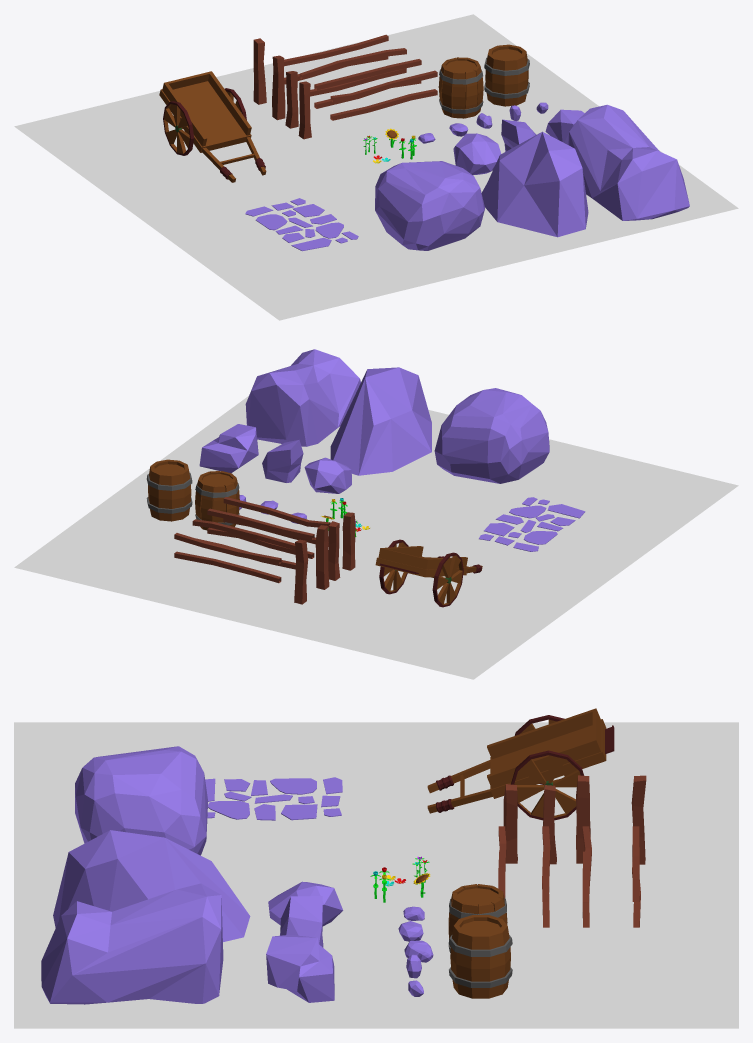
The model's file is assets presentatie.fbx.
The picture shows the model from 3 angles, top to bottom: view 1: azimuth 30°, elevation 25°; view 2: azimuth 150°, elevation 25°; view 3: azimuth 270°, elevation 25°; orthographic projection. The views are drawn at different scales.
Visible parts, largest first — view 1: Plane.017, rock big 1, rock big 2, rock big 3, wagon, tile, barrel, barrel higer poly, fence_length_3, rock medium 3, fence_length_2, fence_length_4 (+7 smaller); view 2: Plane.017, rock big 3, rock big 2, rock big 1, wagon, tile, barrel, rock medium 1, barrel higer poly, fence_length_1, rock medium 2, rock medium 3 (+7 smaller); view 3: Plane.017, rock big 1, rock big 3, rock big 2, wagon, barrel, tile, rock medium 1, barrel higer poly, rock medium 2, rock medium 3, fence_pole_3 (+7 smaller).
Boxes of the visible parts, x1=… form: Plane.017: x1=14, y1=14, x2=738, y2=320; rock big 1: x1=568, y1=104, x2=689, y2=220; rock big 2: x1=481, y1=131, x2=588, y2=237; rock big 3: x1=375, y1=161, x2=484, y2=250; wagon: x1=159, y1=71, x2=266, y2=182; tile: x1=245, y1=198, x2=358, y2=251; barrel: x1=484, y1=44, x2=529, y2=106; barrel higer poly: x1=438, y1=57, x2=483, y2=118; fence_length_3: x1=330, y1=70, x2=437, y2=120; rock medium 3: x1=453, y1=133, x2=501, y2=175; fence_length_2: x1=299, y1=48, x2=406, y2=96; fence_length_4: x1=314, y1=59, x2=421, y2=108; Plane.017: x1=14, y1=396, x2=738, y2=679; rock big 3: x1=434, y1=388, x2=549, y2=483; rock big 2: x1=330, y1=367, x2=431, y2=475; rock big 1: x1=245, y1=349, x2=360, y2=446; wagon: x1=375, y1=539, x2=482, y2=607; tile: x1=479, y1=497, x2=585, y2=551; barrel: x1=146, y1=459, x2=192, y2=521; rock medium 1: x1=199, y1=424, x2=258, y2=473; barrel higer poly: x1=195, y1=471, x2=239, y2=530; fence_length_1: x1=174, y1=533, x2=281, y2=583; rock medium 2: x1=262, y1=439, x2=303, y2=482; rock medium 3: x1=304, y1=457, x2=351, y2=493; Plane.017: x1=14, y1=722, x2=738, y2=1028; rock big 1: x1=41, y1=883, x2=223, y2=1004; rock big 3: x1=75, y1=746, x2=207, y2=855; rock big 2: x1=53, y1=830, x2=250, y2=941; wagon: x1=427, y1=708, x2=614, y2=820; barrel: x1=448, y1=915, x2=512, y2=998; tile: x1=205, y1=777, x2=342, y2=820; rock medium 1: x1=266, y1=934, x2=334, y2=1002; barrel higer poly: x1=448, y1=884, x2=507, y2=952; rock medium 2: x1=280, y1=896, x2=323, y2=947; rock medium 3: x1=268, y1=881, x2=343, y2=926; fence_pole_3: x1=503, y1=784, x2=517, y2=863.
Bounding box in the file's own units: 859 × 135 × 859.
